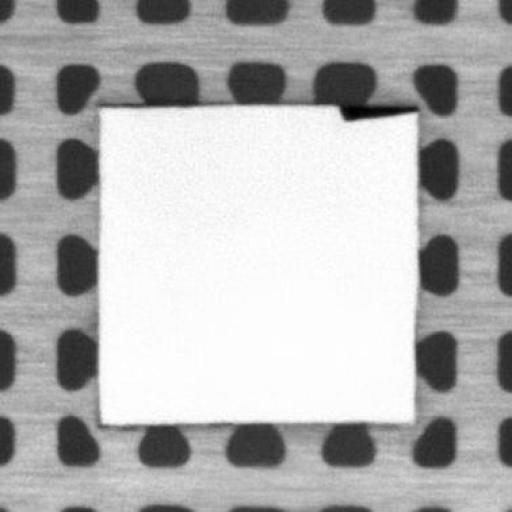DIE_BROKEN: (334, 103, 420, 123)
